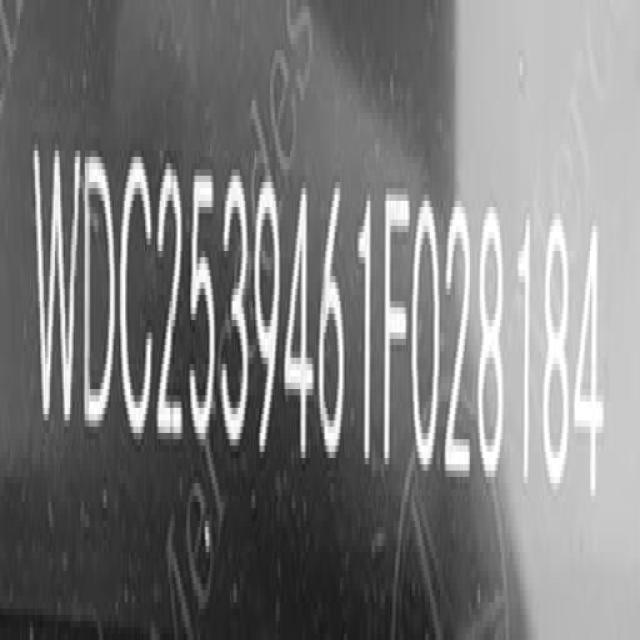0: (413, 193, 442, 479)
1: (352, 186, 374, 467), (516, 212, 536, 496)
2: (156, 159, 186, 448), (446, 198, 474, 485)
3: (222, 172, 250, 455)
4: (285, 174, 316, 468), (575, 226, 606, 510)
5: (191, 162, 219, 448)
6: (320, 178, 348, 469)
8: (476, 206, 506, 486), (544, 220, 574, 497)
9: (252, 168, 280, 456)
C: (121, 154, 155, 445)
D: (84, 144, 120, 440)
F: (382, 177, 411, 460)
W: (32, 139, 84, 437)
